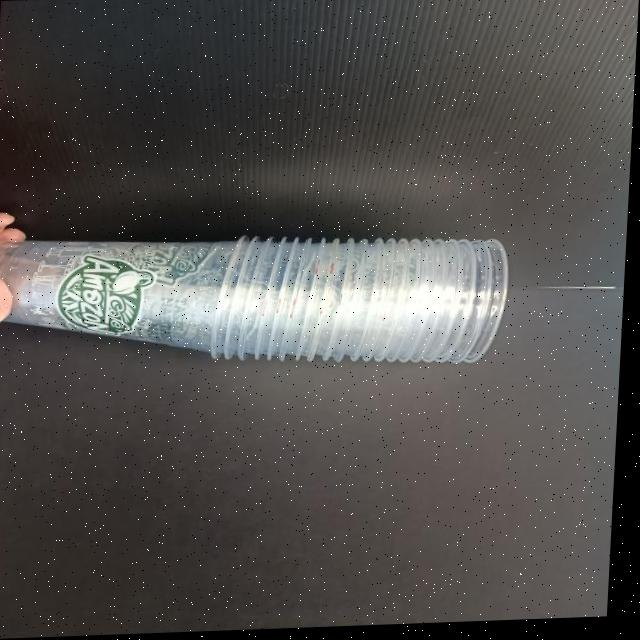cup: (0, 214, 237, 352)
